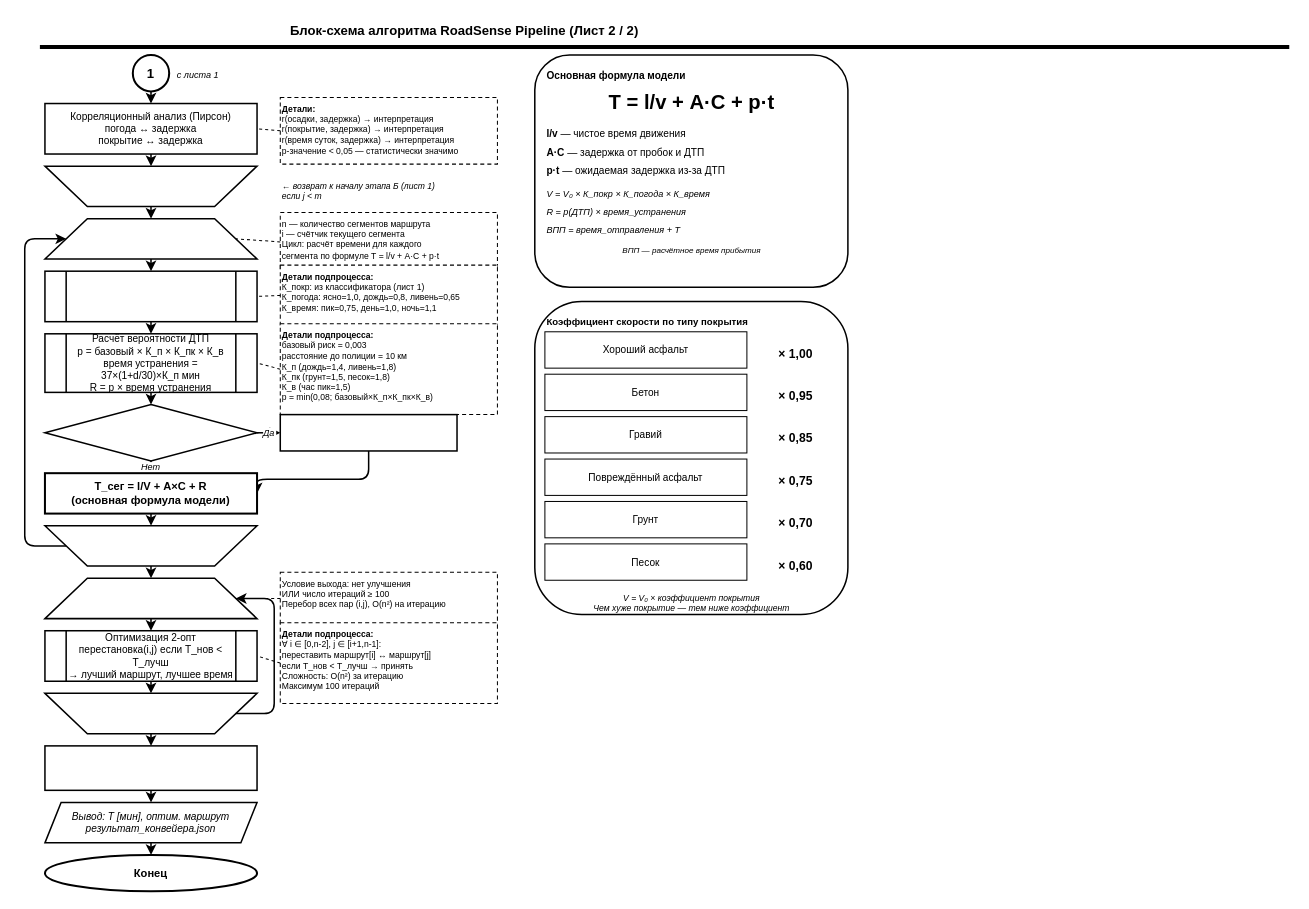
This 1309x909 diagram has some shape labels left out. Here are the shapes that lost their labels. From the top down, the centre of each, then its label:
point 150,186: Б j = j + 1
point 150,238: В пока i < n
point 150,296: Расчёт скорости сегмента V = V₀ × К_покр × К_погода × К_время V₀ = 90 км/ч
point 150,432: случ() < 0,03 (активная авария)?
point 368,432: Задержка пробки А×С = случ(8..25) мин
point 150,545: В i = i + 1
point 150,598: Г пока есть улучшение
point 150,713: Г итер = итер + 1
point 150,768: Т = Σ Т_сег_i [мин] ВПП = время отправления + Т
